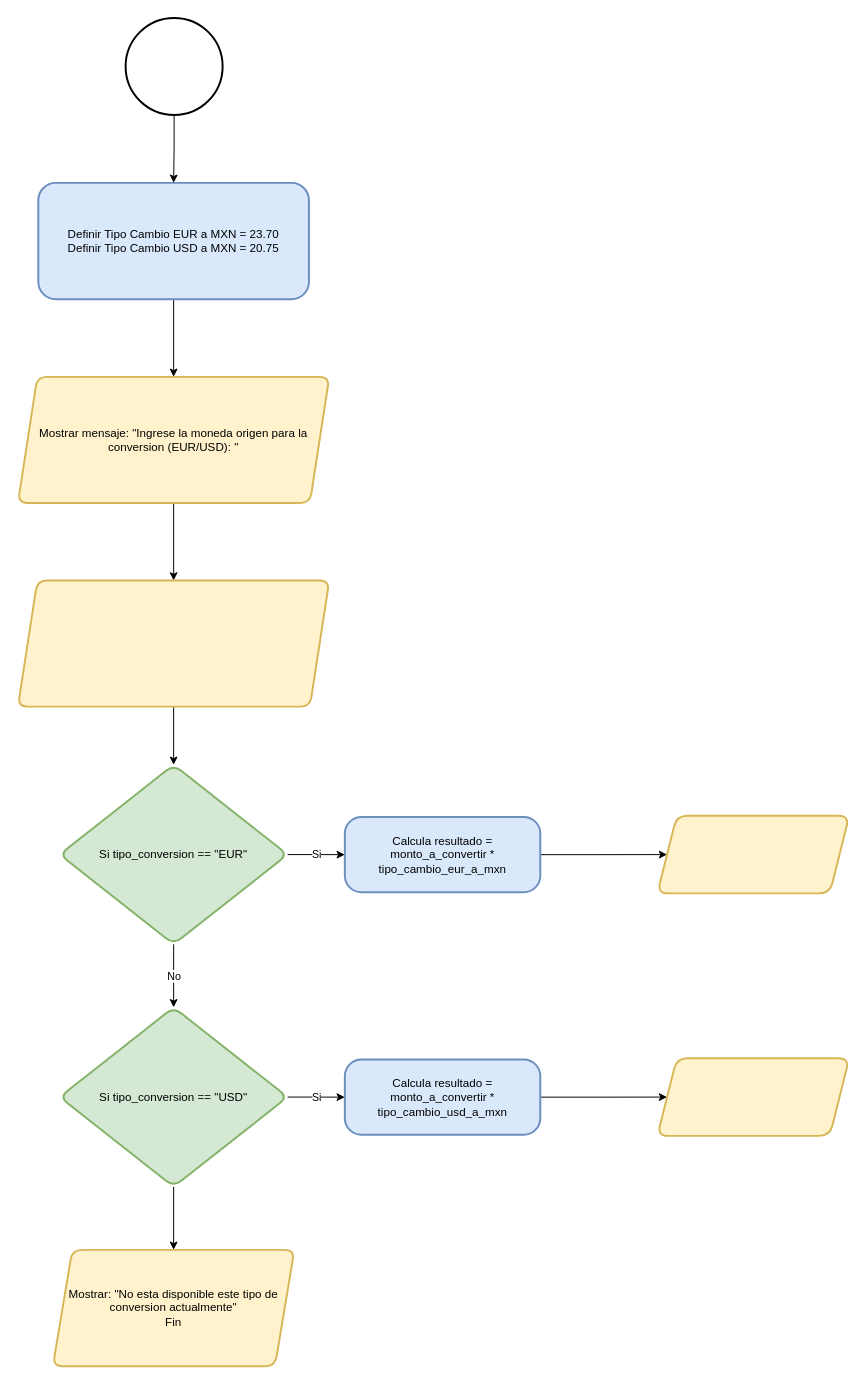
This 866x1383 diagram has some shape labels left out. The shapes that lost their labels are listed below. From the top down, each one's box as (x1, y1, x2, y2) in pixels, then its label:
(124, 16, 223, 115): Inicio
(16, 579, 330, 707): Mostrar mensaje: "Ingrese el monto a convertir: "
(656, 814, 850, 894): Mostrar: "El resultado de la conversion de EUR a MXN es:", resultado
(656, 1057, 850, 1136): Mostrar: "El resultado de la conversion de USD a MXN es:", resultado
